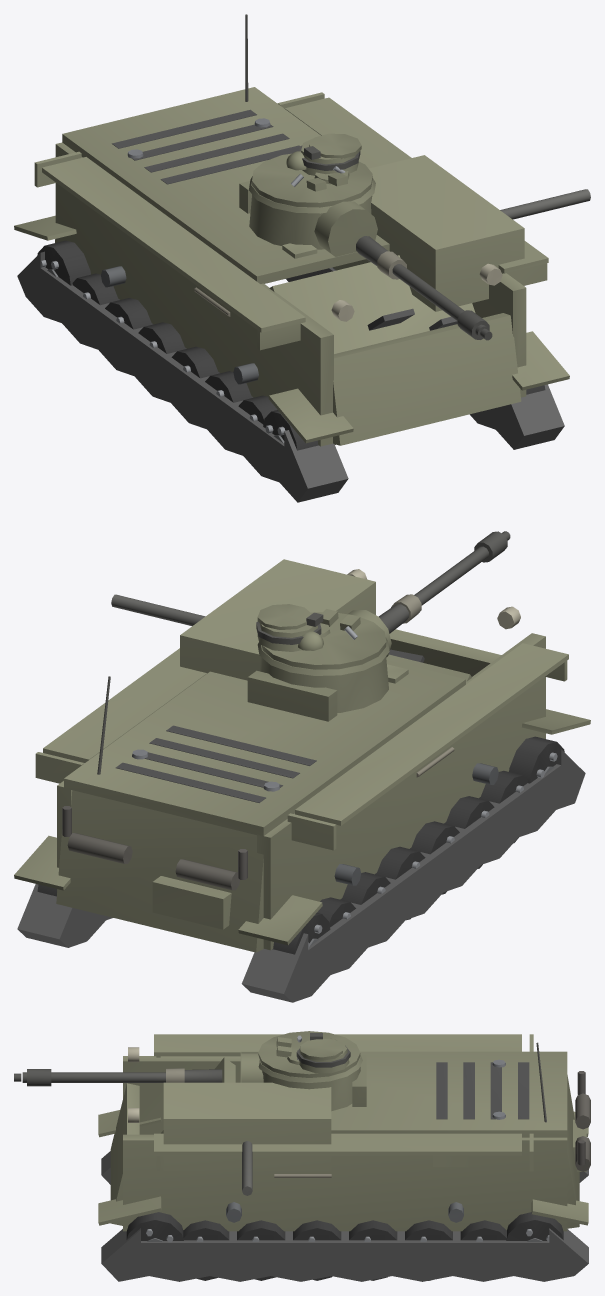
Rendered from m3lee.glb.
3 views of the same model, one above another, from view 1: azimuth 30°, elevation 25°; view 2: azimuth 150°, elevation 25°; view 3: azimuth 270°, elevation 25° (orthographic). The views are drawn at different scales.
Parts seen in each view (by area): view 1: hullSide, tracks, hullTop, lowerPlate, glacis, turretRoof, barrel, turretFront, mantlet, wheel7, wheel2, wheel3 (+6 smaller); view 2: hullSide, hullTop, tracks, hullRear, turretRoof, turretFront, turretRear, barrel, lowerPlate, wheel6, glacis, wheel3 (+7 smaller); view 3: hullSide, tracks, hullTop, turretRoof, hullRear, barrel, lowerPlate, wheel14, wheel15, turretFront, wheel12, wheel13 (+8 smaller).
Part boxes in pixels (x1=…): hullSide: x1=34, y1=92, x2=590, y2=446; tracks: x1=14, y1=215, x2=569, y2=502; hullTop: x1=62, y1=87, x2=389, y2=283; lowerPlate: x1=333, y1=313, x2=521, y2=445; glacis: x1=269, y1=243, x2=475, y2=444; turretRoof: x1=252, y1=133, x2=372, y2=207; barrel: x1=356, y1=236, x2=492, y2=340; turretFront: x1=249, y1=194, x2=372, y2=249; mantlet: x1=314, y1=201, x2=377, y2=256; wheel7: x1=37, y1=240, x2=90, y2=285; wheel2: x1=138, y1=322, x2=186, y2=353; wheel3: x1=171, y1=346, x2=219, y2=378; hullSide: x1=35, y1=559, x2=568, y2=950; hullTop: x1=64, y1=660, x2=465, y2=836; tracks: x1=14, y1=709, x2=590, y2=1002; hullRear: x1=56, y1=676, x2=263, y2=952; turretRoof: x1=256, y1=604, x2=386, y2=669; turretFront: x1=259, y1=656, x2=388, y2=712; turretRear: x1=247, y1=670, x2=337, y2=721; barrel: x1=379, y1=531, x2=510, y2=633; lowerPlate: x1=389, y1=629, x2=501, y2=676; wheel6: x1=509, y1=736, x2=564, y2=783; glacis: x1=386, y1=649, x2=471, y2=683; wheel3: x1=410, y1=821, x2=459, y2=894; hullSide: x1=123, y1=1034, x2=567, y2=1231; tracks: x1=98, y1=1110, x2=588, y2=1281; hullTop: x1=240, y1=1051, x2=567, y2=1137; turretRoof: x1=258, y1=1031, x2=360, y2=1077; hullRear: x1=536, y1=1042, x2=590, y2=1228; barrel: x1=14, y1=1068, x2=222, y2=1086; lowerPlate: x1=110, y1=1083, x2=139, y2=1225; wheel14: x1=126, y1=1212, x2=183, y2=1242; wheel15: x1=506, y1=1212, x2=563, y2=1242; turretFront: x1=262, y1=1067, x2=360, y2=1111; wheel12: x1=237, y1=1220, x2=285, y2=1280; wheel13: x1=183, y1=1220, x2=229, y2=1280.
Size of the model in its own units: 5.16 by 3.34 by 8.05.
